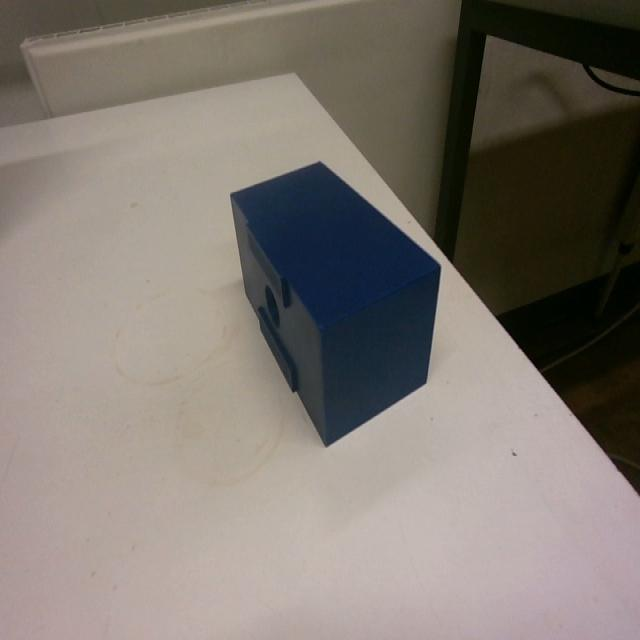Blue Cuboid: (227, 157, 442, 447)
